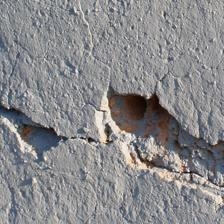Crack: (14, 60, 135, 106), (95, 5, 127, 103), (52, 82, 70, 142)
